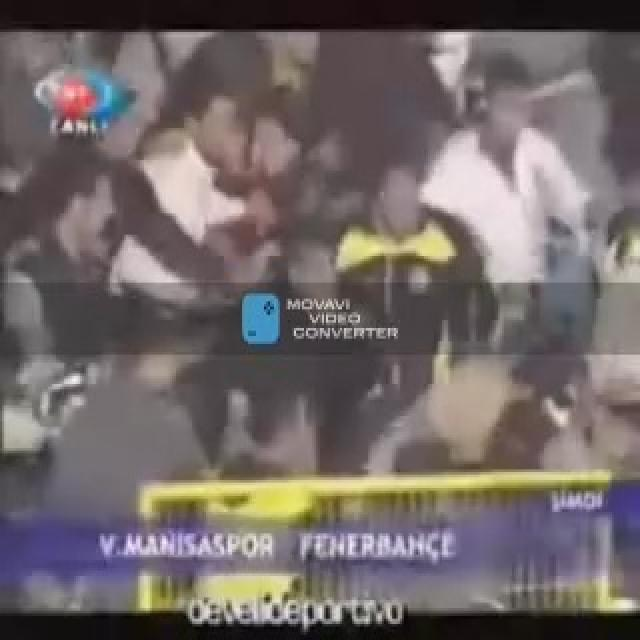non-voilence: (0, 24, 638, 613), (32, 62, 136, 142)
